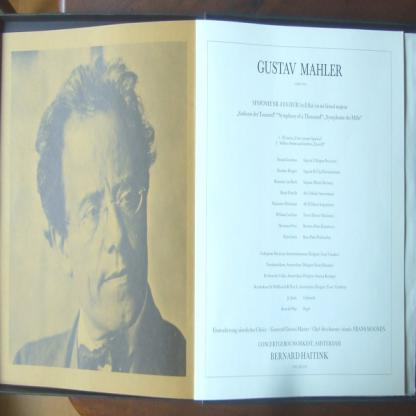book: (0, 14, 405, 399)
